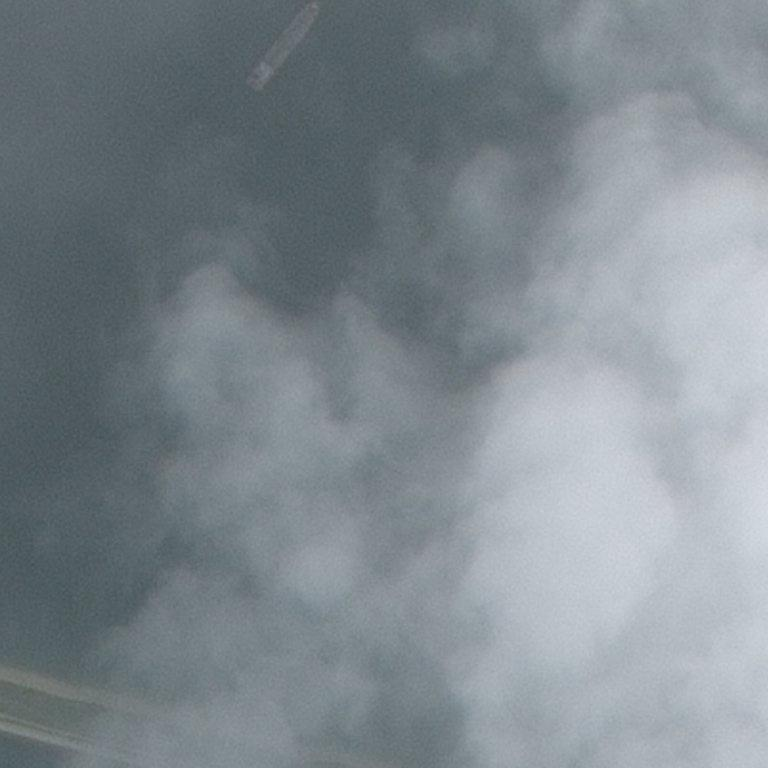ship: (274, 38, 299, 62), (241, 75, 249, 83), (314, 4, 320, 11), (0, 86, 6, 92)
